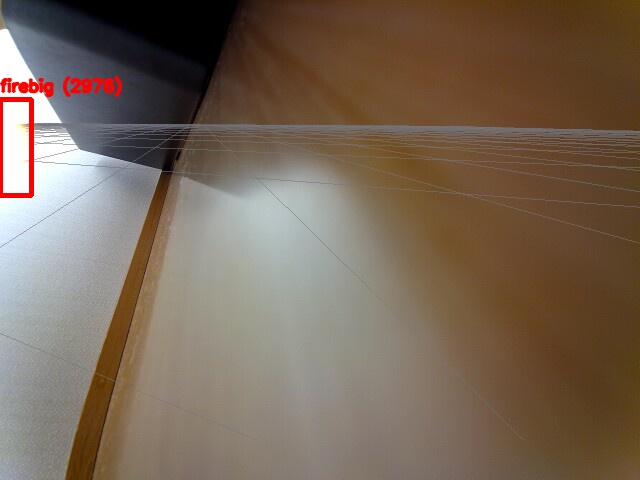firebig: (0, 99, 31, 195)
